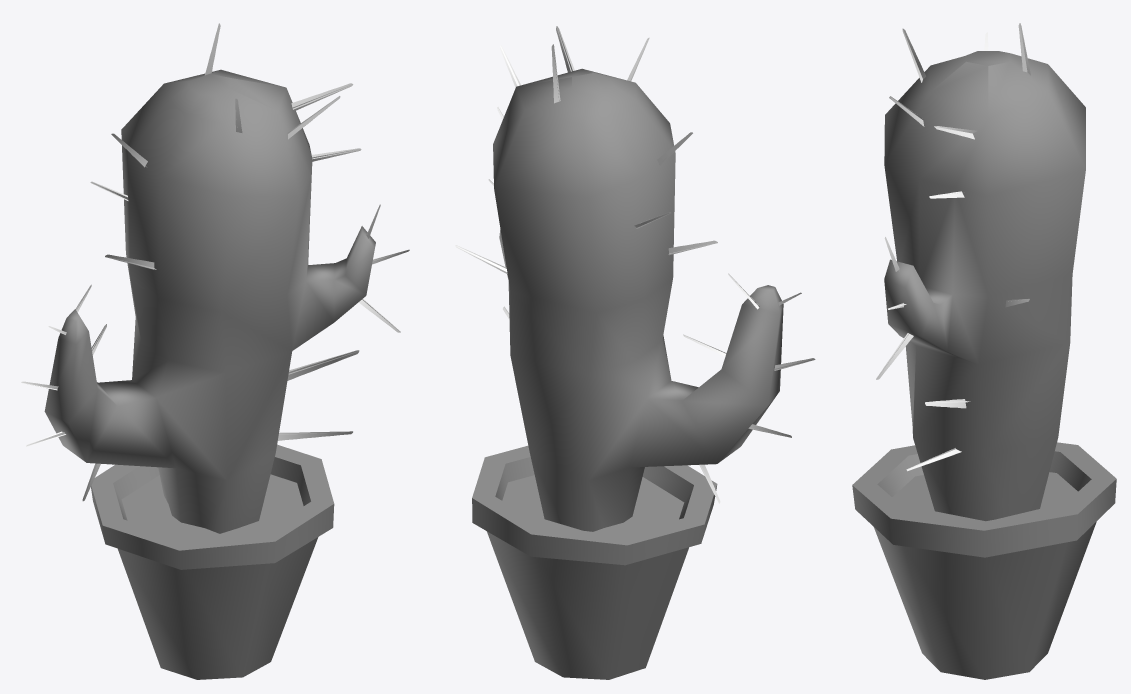
File: Cactus.FBX
3 views of the same model, side by side, from view 1: azimuth 30°, elevation 25°; view 2: azimuth 150°, elevation 25°; view 3: azimuth 270°, elevation 25° (orthographic). The views are drawn at different scales.
Visible parts, largest first — view 1: cactus; view 2: cactus; view 3: cactus.
Boxes of the visible parts, box(x1,y1,x2,y2) form: cactus: box(21, 23, 409, 679); cactus: box(455, 26, 815, 679); cactus: box(852, 23, 1116, 679).
Size of the model in its own units: 1.93 by 3.11 by 1.14.
